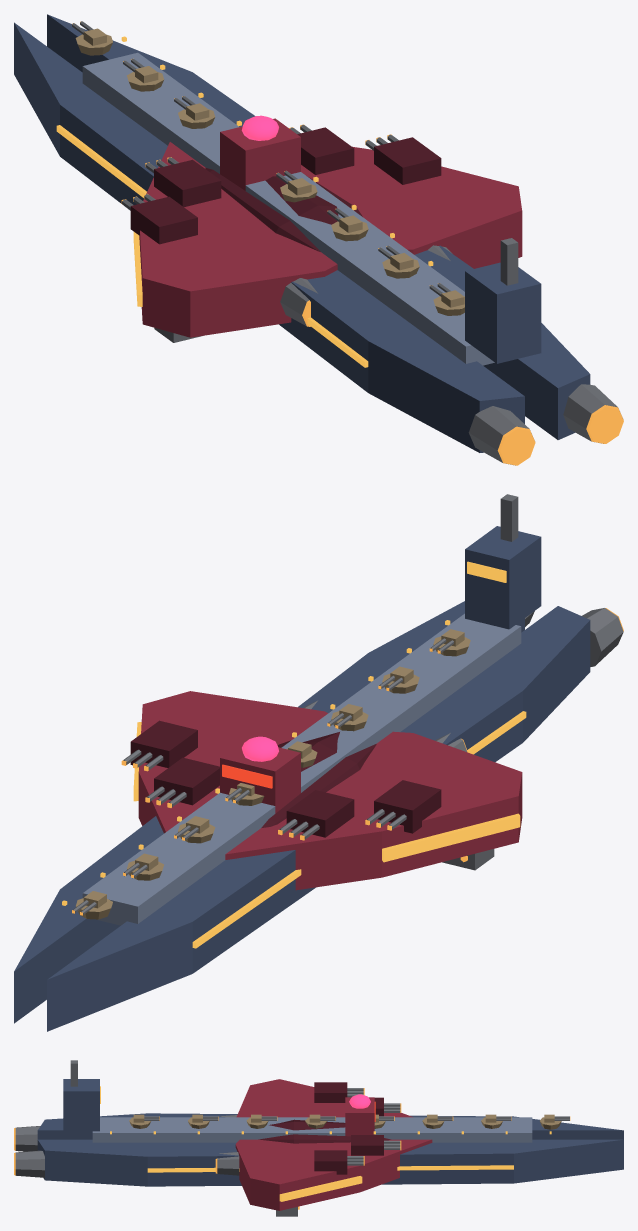
File: loc3.glb
3 views of the same model, one above another, from view 1: azimuth 30°, elevation 25°; view 2: azimuth 150°, elevation 25°; view 3: azimuth 270°, elevation 25° (orthographic). The views are drawn at different scales.
Parts seen in each view (by area): view 1: battleship, flagship, part_bridge, part_core.003, part_batL1, part_batR1, part_batL2, part_batR2, part_turret0.002, part_turret6, part_turret5, part_turret2.002 (+3 smaller); view 2: battleship, flagship, part_bridge, part_core.003, part_batL1, part_batL2, part_batR1, part_batR2, part_turret0.002, part_turret1.002, part_turret2.002, part_turret6 (+2 smaller); view 3: battleship, flagship, part_bridge, part_core.003, part_batR1, part_batR2, part_batL1, part_batL2, part_turret0.002, part_turret2.002, part_turret5, part_turret1.002 (+3 smaller).
Part boxes in pixels (x1=…): battleship: x1=14, y1=14, x2=623, y2=465; flagship: x1=133, y1=142, x2=522, y2=337; part_bridge: x1=465, y1=238, x2=541, y2=363; part_core.003: x1=220, y1=115, x2=300, y2=190; part_batL1: x1=121, y1=193, x2=197, y2=244; part_batR1: x1=365, y1=134, x2=441, y2=184; part_batL2: x1=145, y1=157, x2=221, y2=206; part_batR2: x1=289, y1=124, x2=354, y2=174; part_turret0.002: x1=72, y1=21, x2=112, y2=55; part_turret6: x1=378, y1=245, x2=419, y2=278; part_turret5: x1=327, y1=208, x2=368, y2=241; part_turret2.002: x1=174, y1=96, x2=215, y2=128; battleship: x1=14, y1=601, x2=623, y2=1031; flagship: x1=133, y1=691, x2=522, y2=890; part_bridge: x1=465, y1=494, x2=541, y2=629; part_core.003: x1=220, y1=736, x2=300, y2=813; part_batL1: x1=365, y1=780, x2=441, y2=833; part_batL2: x1=278, y1=790, x2=354, y2=840; part_batR1: x1=121, y1=720, x2=197, y2=771; part_batR2: x1=145, y1=757, x2=219, y2=807; part_turret0.002: x1=72, y1=891, x2=112, y2=919; part_turret1.002: x1=123, y1=853, x2=163, y2=880; part_turret2.002: x1=174, y1=816, x2=215, y2=843; part_turret6: x1=378, y1=666, x2=419, y2=693; battleship: x1=14, y1=1113, x2=623, y2=1186; flagship: x1=215, y1=1079, x2=432, y2=1210; part_bridge: x1=63, y1=1060, x2=100, y2=1131; part_core.003: x1=345, y1=1094, x2=375, y2=1136; part_batR1: x1=314, y1=1150, x2=364, y2=1174; part_batR2: x1=351, y1=1135, x2=401, y2=1155; part_batL1: x1=314, y1=1082, x2=364, y2=1102; part_batL2: x1=374, y1=1097, x2=401, y2=1116; part_turret0.002: x1=540, y1=1114, x2=570, y2=1129; part_turret2.002: x1=422, y1=1114, x2=453, y2=1128; part_turret5: x1=246, y1=1114, x2=277, y2=1128; part_turret1.002: x1=481, y1=1114, x2=511, y2=1128.
Size of the model in its own units: 69.2 by 33 by 166.
